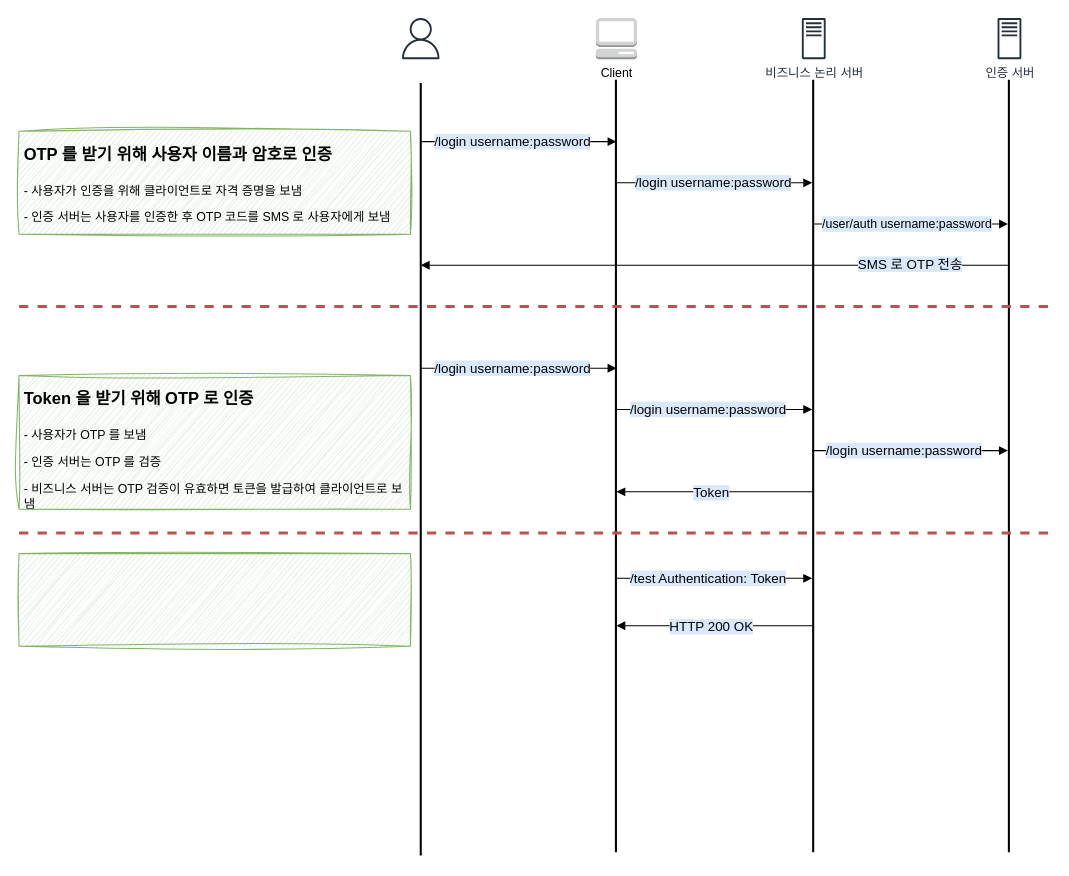
Some shapes in this 1069 by 876 pixel diagram are drawn without their labels. The shapes that lost their labels are listed below. From the top down, each one's box as (x1, y1, x2, y2) in pixels, then its label:
(400, 18, 441, 59): User
(18, 553, 410, 646): 엔드포인트에 접근하기 위해 Token 으로 인증 - 클라이언트가 토큰으로 비즈니스 논리 서버가 노출하는 리소스에 접근
